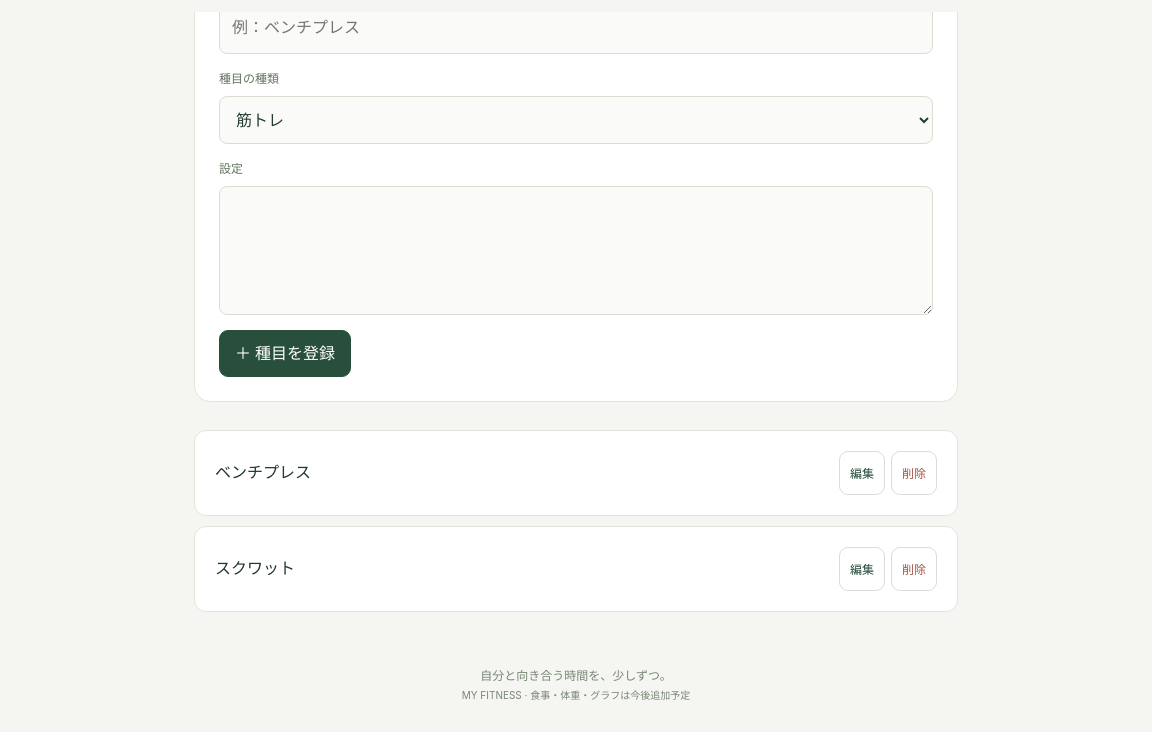
Test: 店舗情報と選択画面を表示し、共通設定を各店舗とその他で確認できる
The width and height of the screenshot is (1152, 732).
Earlier steps of the test are not shown.
Later steps or results of the test are not shown.
(page scrolled)
Click the button "編集" in the row of "ベンチプレス": (862, 473) left=839, top=451, right=885, bottom=495
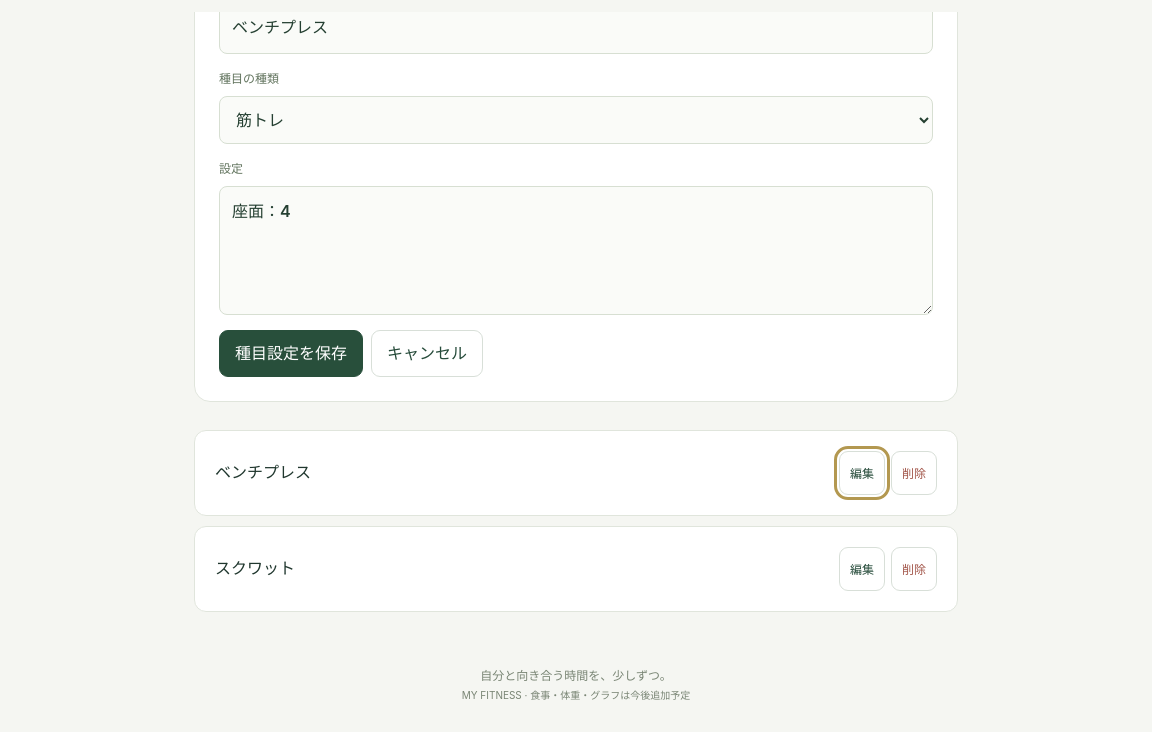
Replace the text in the text box labelled "設定" with "グリップ：内側": (576, 250) left=219, top=186, right=933, bottom=314
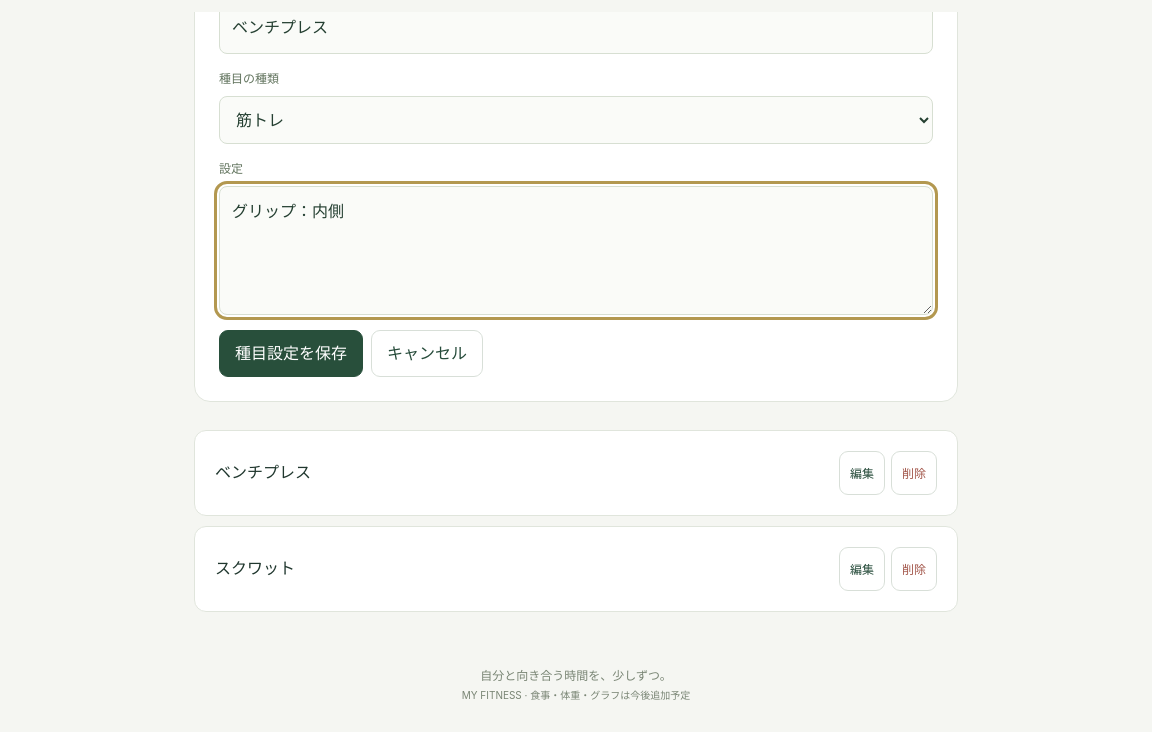
Click the button "種目設定を保存": (291, 353) left=219, top=330, right=363, bottom=377
(page scrolled)
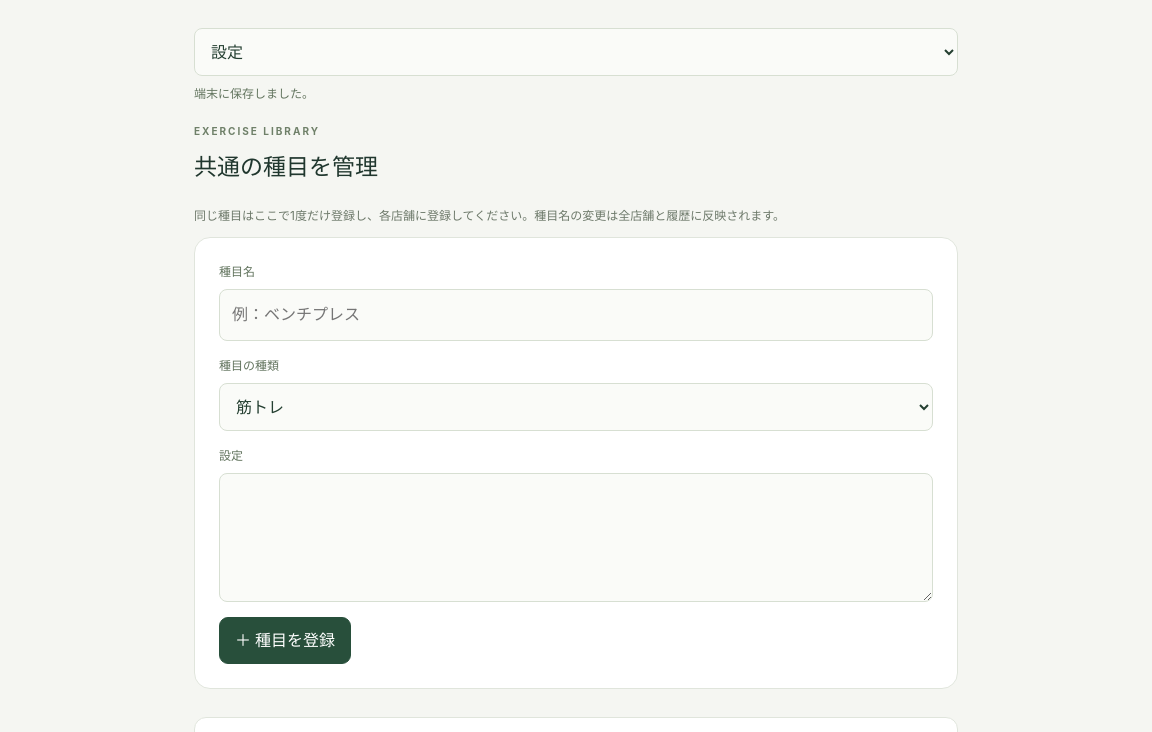
Select "A店" in the dropdown named "店舗を選択": (576, 52) left=194, top=28, right=958, bottom=76
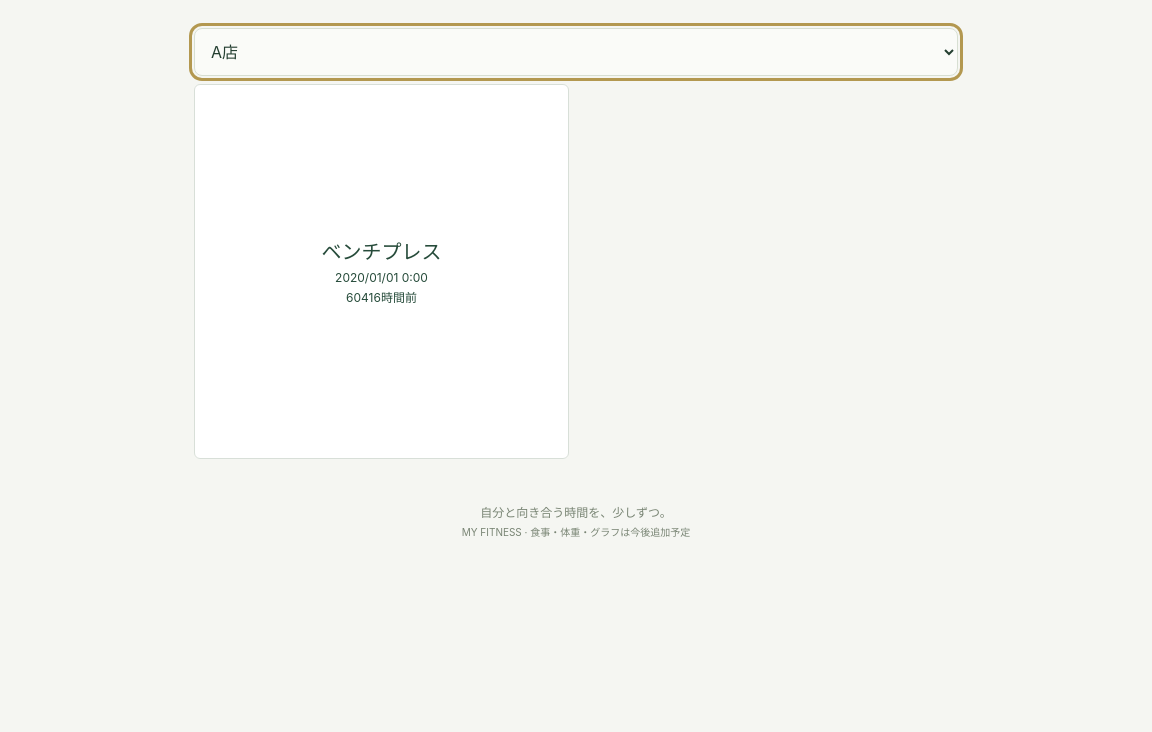
Expected: the text "端末に保存しました。" is gone
Select "B店" in the dropdown named "店舗を選択": (576, 52) left=194, top=28, right=958, bottom=76
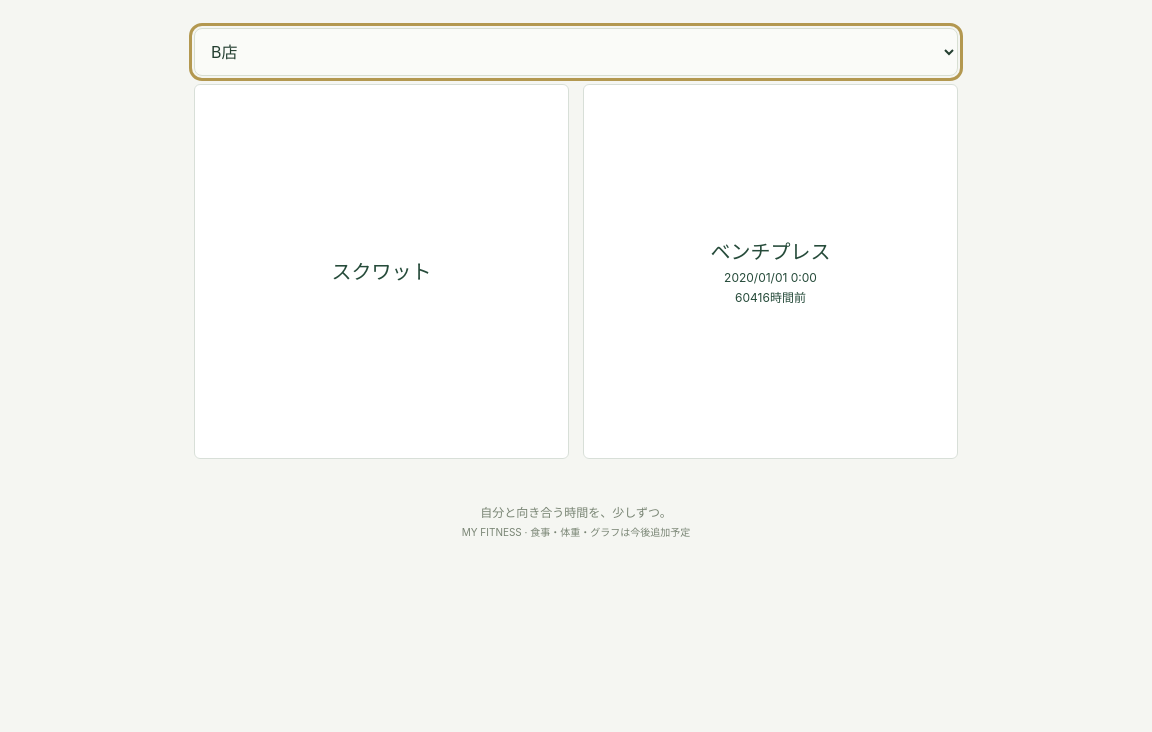
Click the button "ベンチプレス 2020/01/01 0:0060416時間前": (770, 272) left=583, top=84, right=958, bottom=459
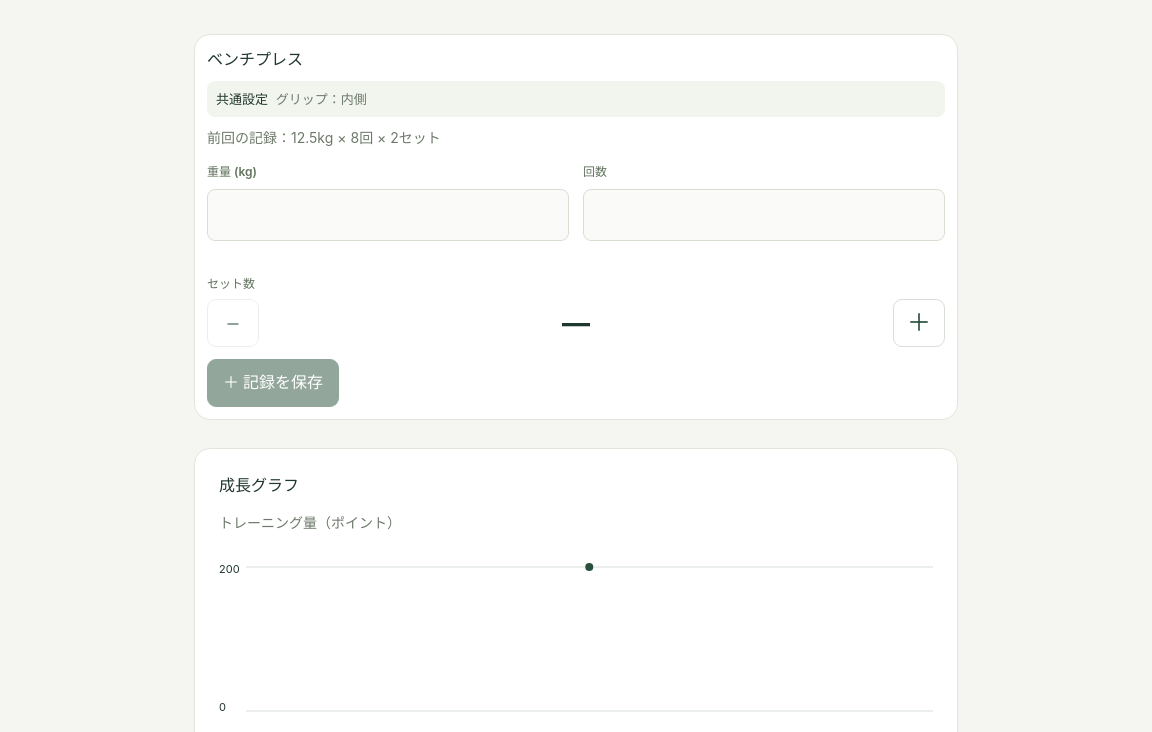
Expected: the element named "保存済みの設定" shows "グリップ：内側", left=276, top=91, right=367, bottom=107
